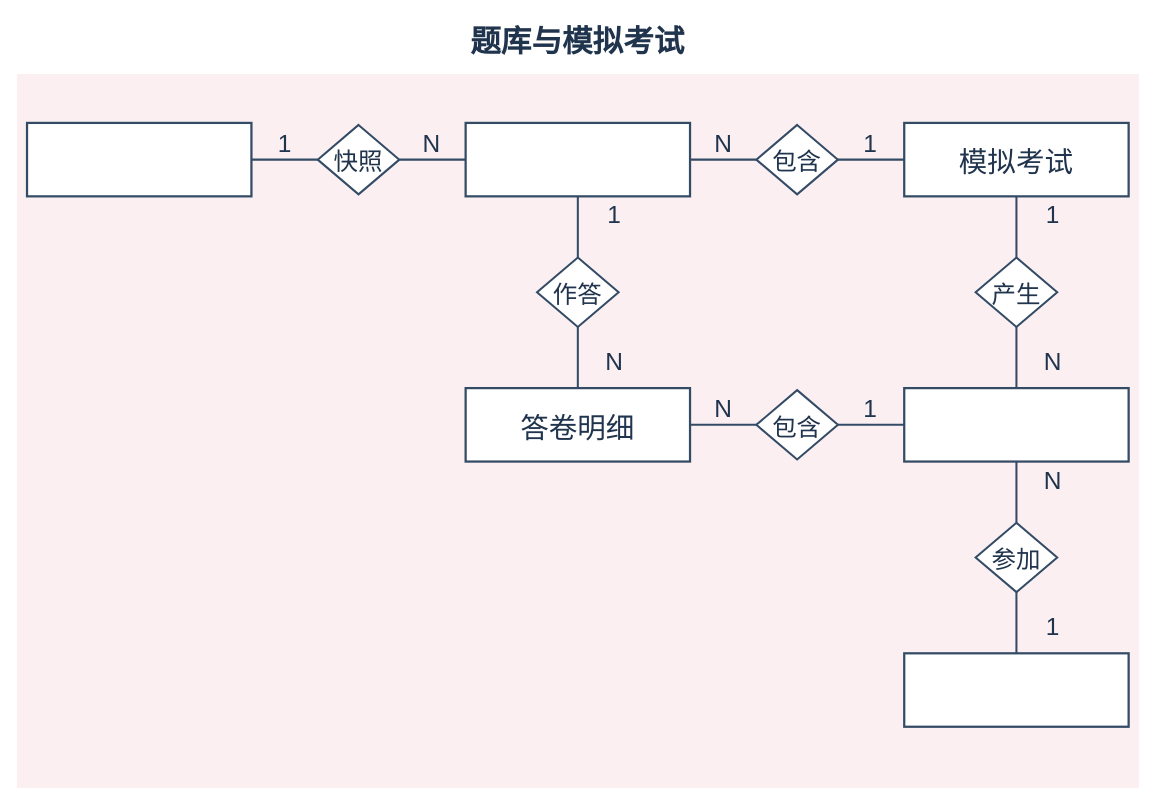
Some shapes in this 1156 by 805 pixel diagram are drawn without their labels. The shapes that lost their labels are listed below. From the top down, each one's box as (x1, y1, x2, y2) in pixels, then its label:
(25, 121, 252, 197): 题库题目
(464, 121, 691, 197): 考试题目快照
(903, 386, 1129, 462): 个人答卷
(903, 652, 1129, 727): 学员档案
